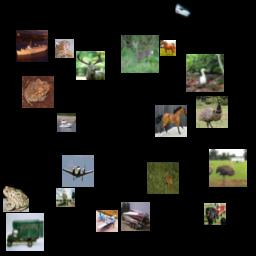airplane: (62, 155, 94, 187), (96, 210, 118, 232), (56, 188, 75, 207)
bird: (209, 149, 247, 187), (186, 54, 224, 92), (196, 96, 228, 128)
cat: (55, 39, 74, 58)
deer: (121, 35, 159, 73), (147, 162, 179, 194), (76, 51, 105, 80)
dog: (204, 203, 226, 225)
frog: (22, 76, 54, 108), (3, 186, 29, 212)
ship: (16, 30, 48, 62), (121, 202, 150, 231), (57, 113, 76, 132), (175, 3, 191, 19)
truck: (6, 213, 44, 251)
